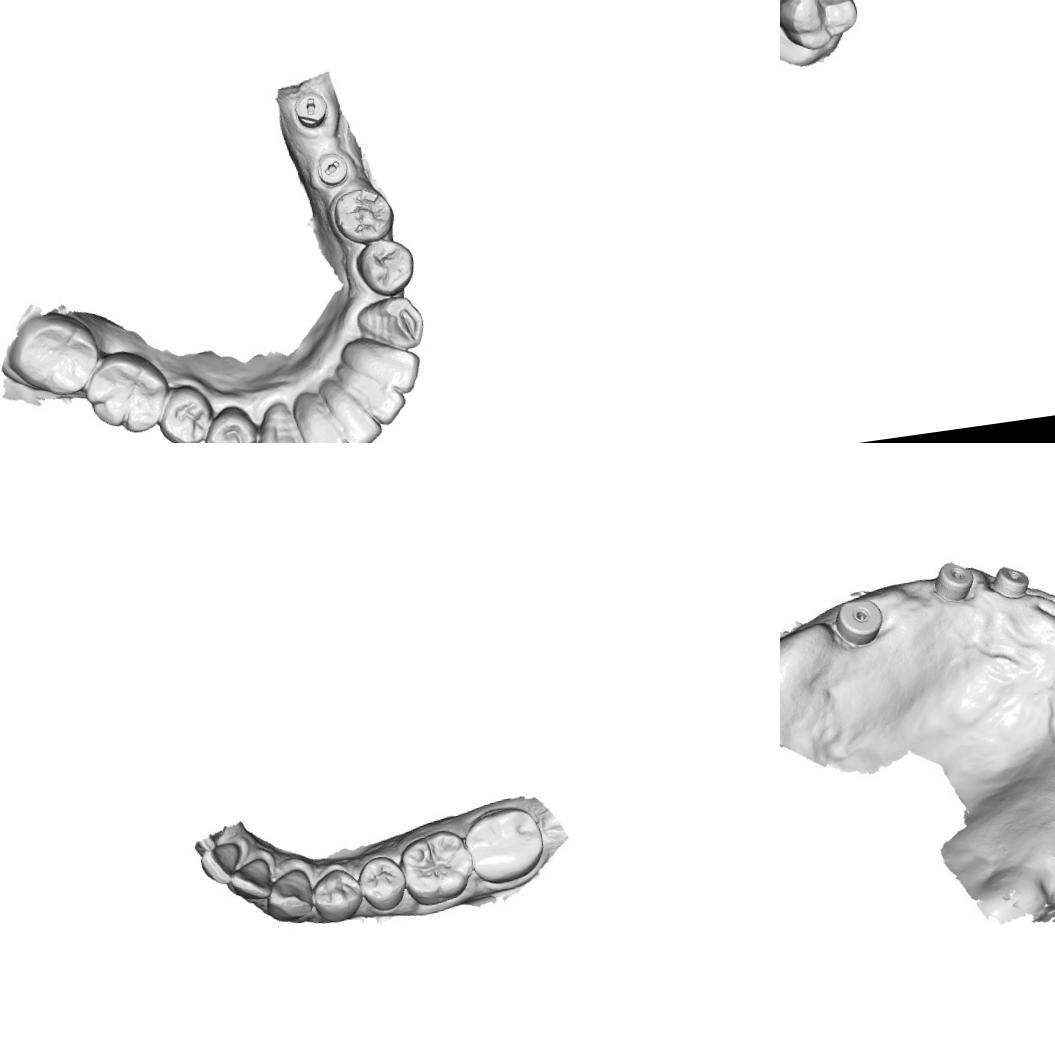canine: (352, 292, 429, 358), (259, 863, 317, 926), (252, 396, 310, 443)
implant: (834, 591, 883, 646), (992, 562, 1032, 596), (940, 562, 970, 601)
implant_minus: (288, 82, 336, 132), (310, 147, 358, 188)
incisor: (336, 356, 410, 432), (343, 336, 424, 404), (319, 382, 386, 443), (224, 853, 278, 909), (295, 395, 355, 443), (196, 838, 249, 890)
molar: (1, 306, 106, 404), (78, 344, 175, 442), (460, 801, 550, 889), (394, 824, 476, 910), (780, 0, 862, 55)
premolar: (324, 178, 399, 251), (350, 230, 422, 298), (149, 378, 220, 443), (306, 864, 368, 928), (352, 851, 412, 916), (196, 399, 267, 443)
